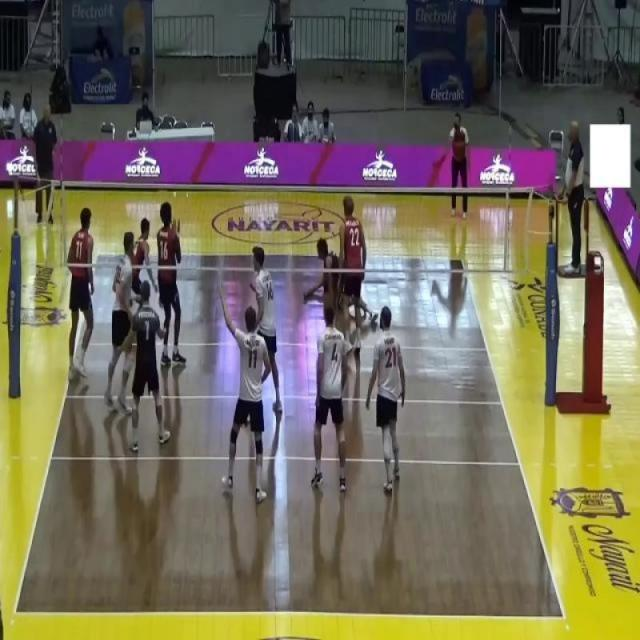volleyball: (158, 294, 165, 310)
